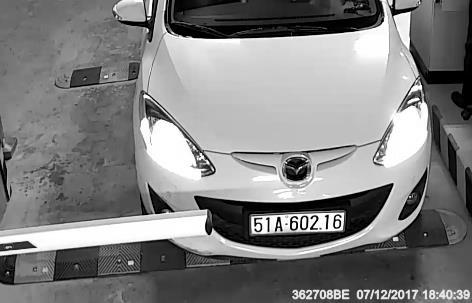License-plate: (237, 198, 355, 248)
